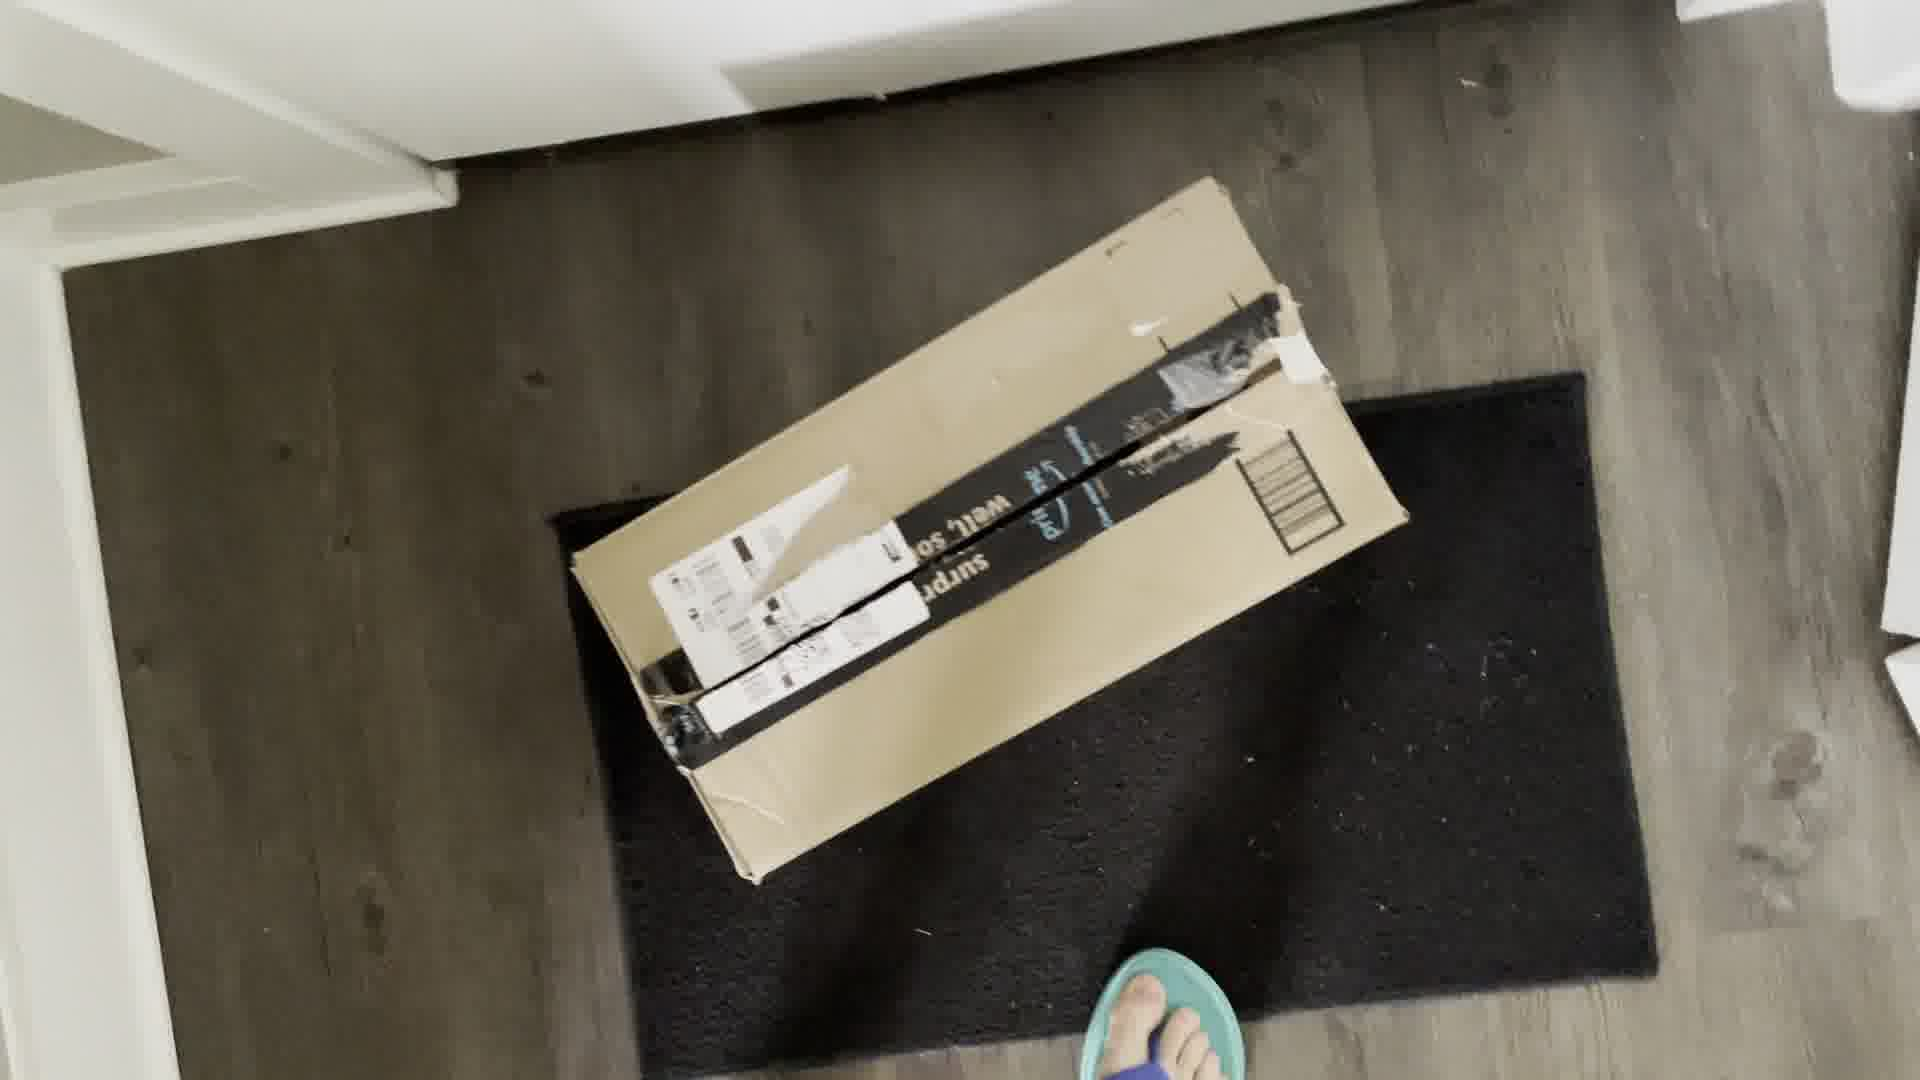box: (551, 175, 1435, 878)
